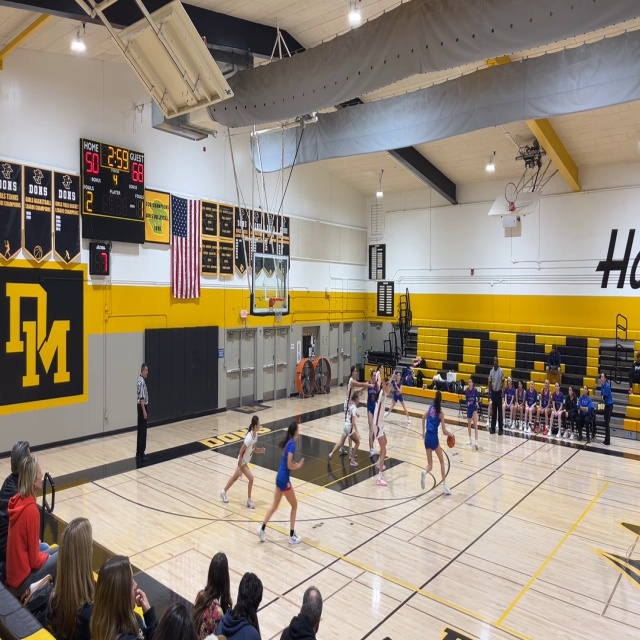Basketball: (446, 434, 455, 448)
